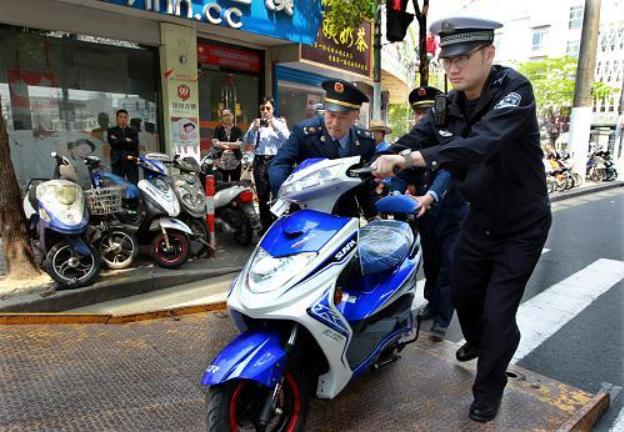non-vehicle: (200, 154, 437, 432), (23, 155, 85, 296), (84, 149, 135, 270), (137, 152, 188, 269)
